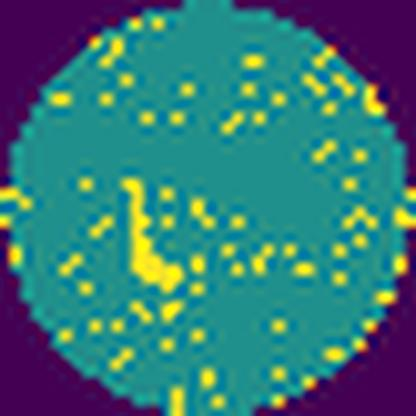Loc: (120, 179, 183, 297)
